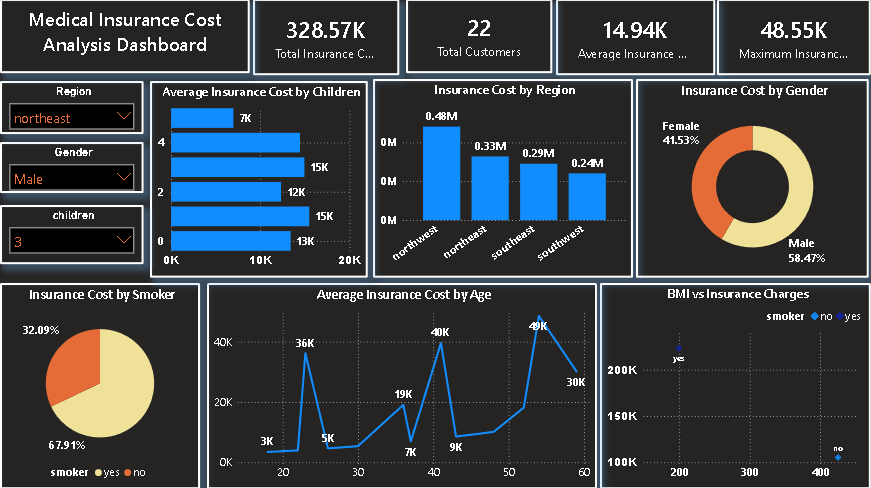

This screenshot's page, from the dashboard's own definition file:
{"tool":"powerbi","page":{"name":"Page 1","canvas":[1280,720],"ordinal":0},"visuals":[{"type":"cardVisual","fields":{"Data":["insurance.Total Insurance Cost"]},"box":[371.8,0,214.5,111.7],"z":0},{"type":"cardVisual","fields":{"Data":["insurance.Average Insurance Cost"]},"box":[817,0,233.6,111.7],"z":1},{"type":"cardVisual","fields":{"Data":["insurance.Total Customers"]},"box":[596.6,0,214.5,108.7],"z":2},{"type":"cardVisual","fields":{"Data":["insurance.Maximum Insurance Cost"]},"box":[1053.6,0,226.3,111.7],"z":3},{"type":"pieChart","title":"Insurance Cost by Smoker","fields":{"Category":["insurance.smoker"],"Y":["insurance.Total Insurance Cost"]},"box":[0,417.3,293.9,302.7],"z":4},{"type":"columnChart","title":"Insurance Cost by Region","fields":{"Category":["insurance.region"],"Y":["insurance.Total Insurance Cost"]},"box":[548.1,117.6,382,292.4],"z":5},{"type":"donutChart","title":"Insurance Cost by Gender","fields":{"Category":["insurance.Gender"],"Y":["insurance.Total Insurance Cost"]},"box":[934.5,117.6,342.4,292.4],"z":6},{"type":"scatterChart","title":"BMI vs Insurance Charges","fields":{"X":["Sum(insurance.bmi)"],"Series":["insurance.smoker"],"Y":["Sum(insurance.charges)"]},"box":[881.6,417.3,398.2,302.7],"z":7},{"type":"lineChart","title":"Average Insurance Cost by Age","fields":{"Category":["insurance.age"],"Y":["insurance.Average Insurance Cost"]},"box":[304.2,417.3,573.1,302.7],"z":8},{"type":"clusteredBarChart","title":"Average Insurance Cost by Children","fields":{"Category":["insurance.children"],"Y":["insurance.Average Insurance Cost"]},"box":[220.4,120.5,320.3,289.5],"z":9},{"type":"slicer","title":"Gender","fields":{"Values":["insurance.Gender"]},"box":[0,209.7,211.4,74.9],"z":10},{"type":"slicer","title":"Region","fields":{"Values":["insurance.region"]},"box":[0,119.8,211.4,78.2],"z":11},{"type":"textbox","box":[0,0,367.3,108.7],"z":12},{"type":"slicer","title":"children","fields":{"Values":["insurance.children"]},"box":[0,302.9,211.4,86.6],"z":13}]}

Visuals, with their boxes in screenshot pixels (x1, y1, x2, y2), scaled from the page's 1280x720 canvas onto the 871x488 screenshot:
cardVisual - insurance.Total Insurance Cost: 253:0:399:76
cardVisual - insurance.Average Insurance Cost: 556:0:715:76
cardVisual - insurance.Total Customers: 406:0:552:74
cardVisual - insurance.Maximum Insurance Cost: 717:0:870:76
"Insurance Cost by Smoker" pieChart: 0:283:200:487
"Insurance Cost by Region" columnChart: 373:80:633:278
"Insurance Cost by Gender" donutChart: 636:80:869:278
"BMI vs Insurance Charges" scatterChart: 600:283:870:487
"Average Insurance Cost by Age" lineChart: 207:283:597:487
"Average Insurance Cost by Children" clusteredBarChart: 150:82:368:278
"Gender" slicer: 0:142:144:193
"Region" slicer: 0:81:144:134
textbox: 0:0:250:74
"children" slicer: 0:205:144:264
